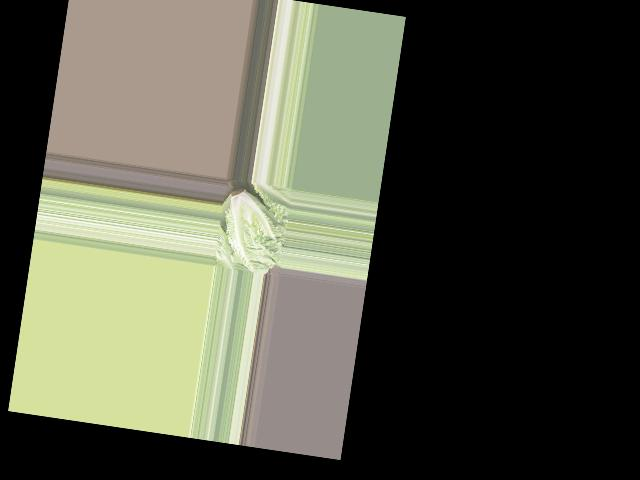lettuce: (212, 182, 287, 274)
